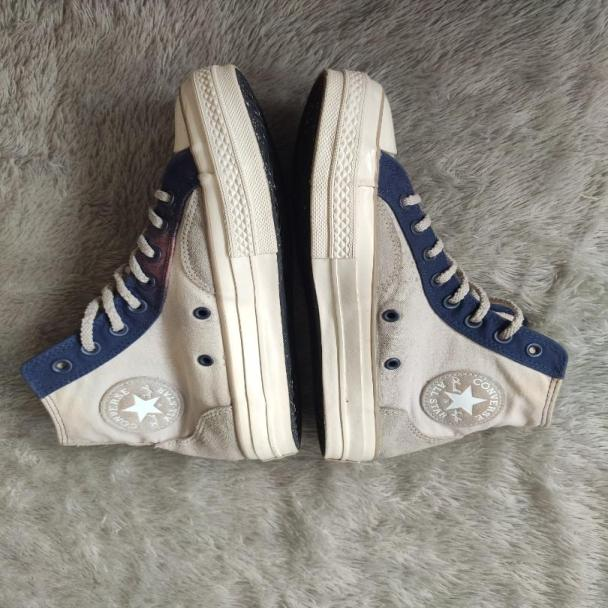Sepatu: (298, 52, 545, 468), (45, 58, 292, 470)
